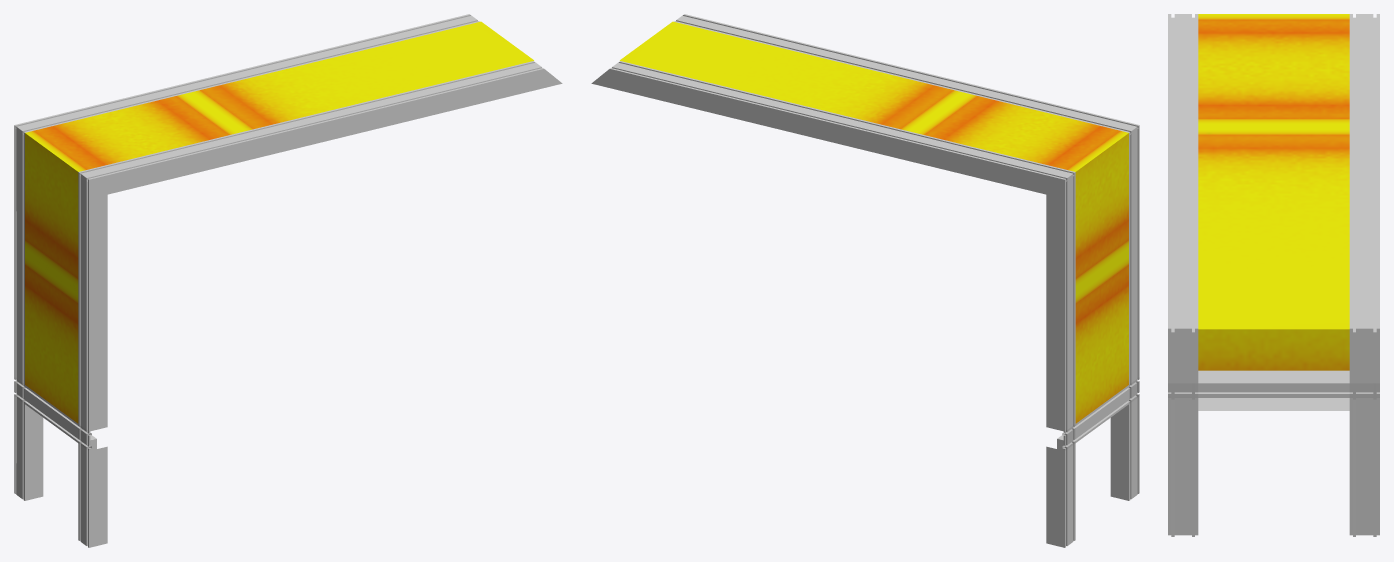
The picture shows the model from 3 angles, left to right: view 1: azimuth 30°, elevation 25°; view 2: azimuth 150°, elevation 25°; view 3: azimuth 270°, elevation 25°; orthographic projection. The views are drawn at different scales.
Parts seen in each view (by area): view 1: Cube.036; view 2: Cube.036; view 3: Cube.036.
Part boxes in pixels (x1,y1,x2,y2): Cube.036: [14, 14, 562, 547]; Cube.036: [591, 14, 1139, 547]; Cube.036: [1168, 14, 1379, 536].
Size of the model in its own units: 1279 by 950 by 350.
